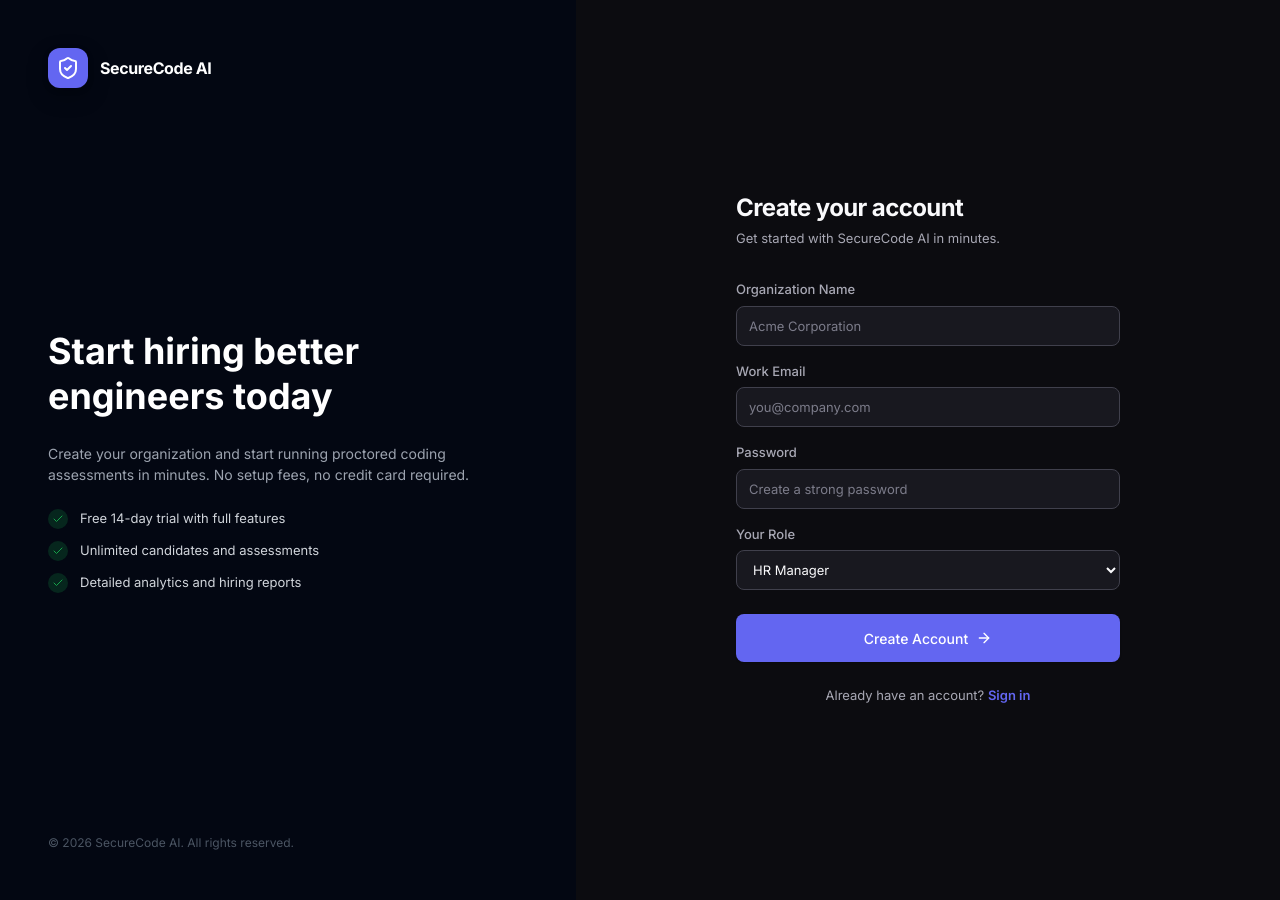
RegisterPage › shows error toast on failed registration
Step 1. Type "Test Org" into the field with placeholder "Acme Corporation" → (928, 326), box x1=736 y1=306 x2=1120 y2=346
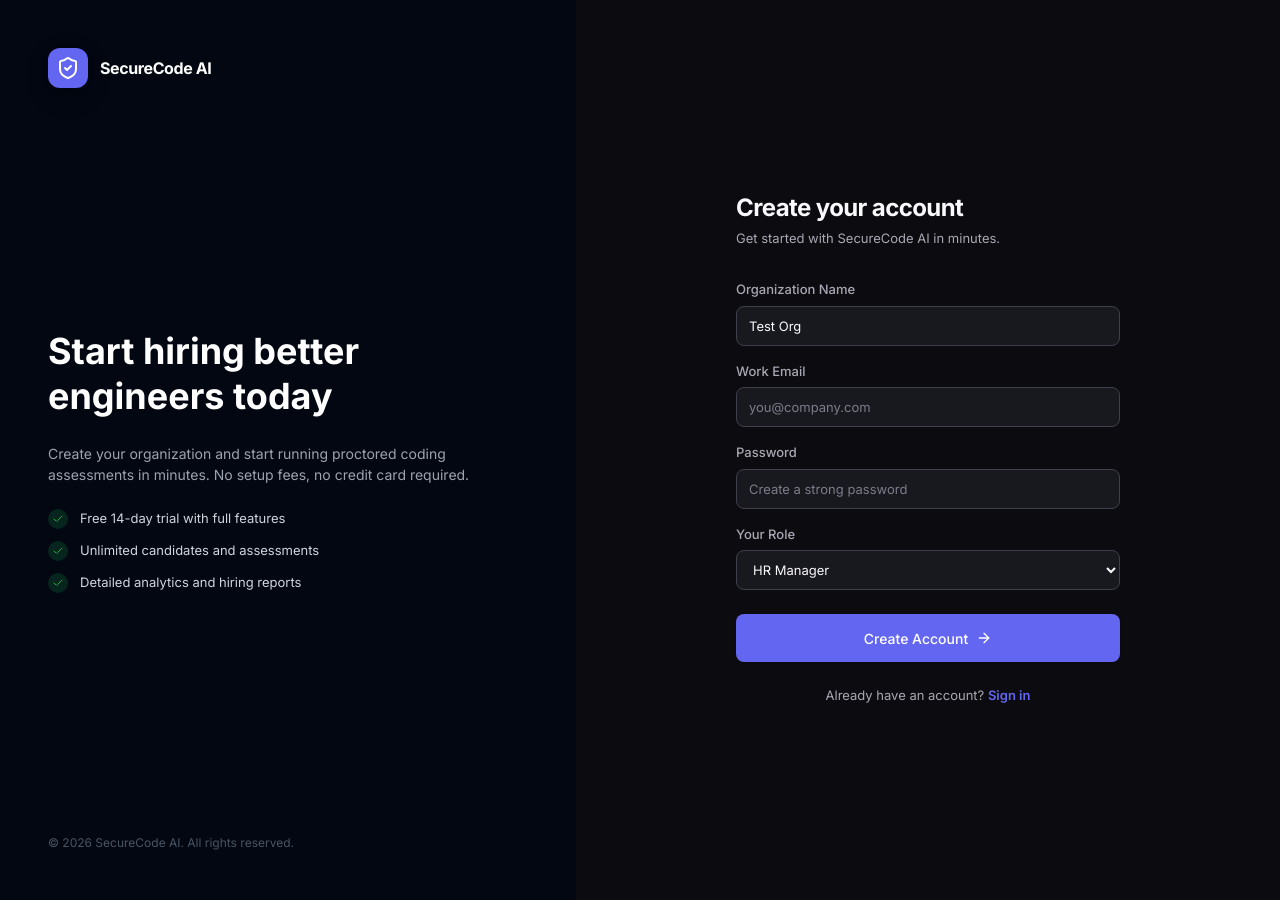
Step 2. Type "bad@test.com" into the field with placeholder "you@company.com" → (928, 407), box x1=736 y1=387 x2=1120 y2=427
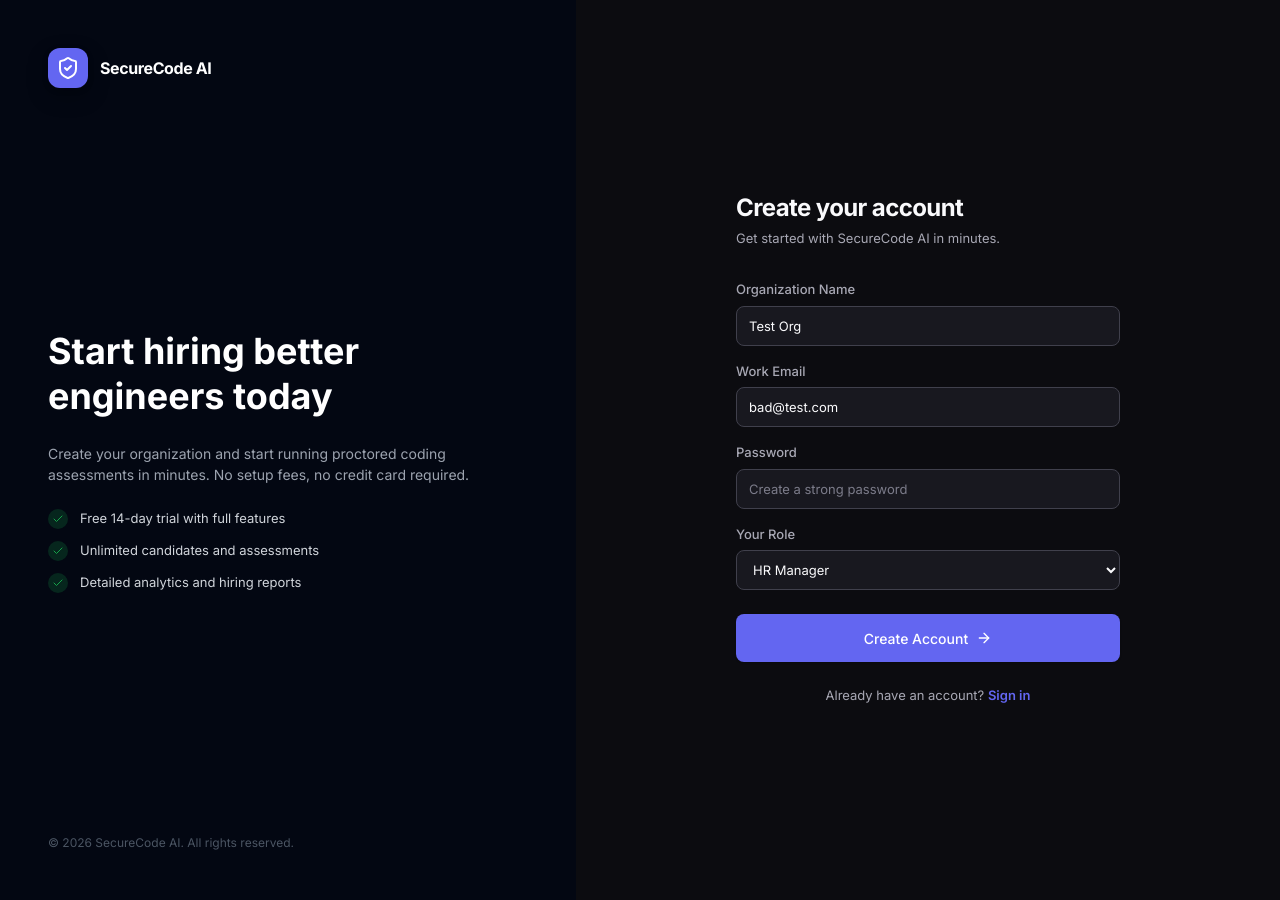
Step 3. Type "SecurePass123!" into the password field with placeholder "Create a strong password" → (928, 489), box x1=736 y1=469 x2=1120 y2=509
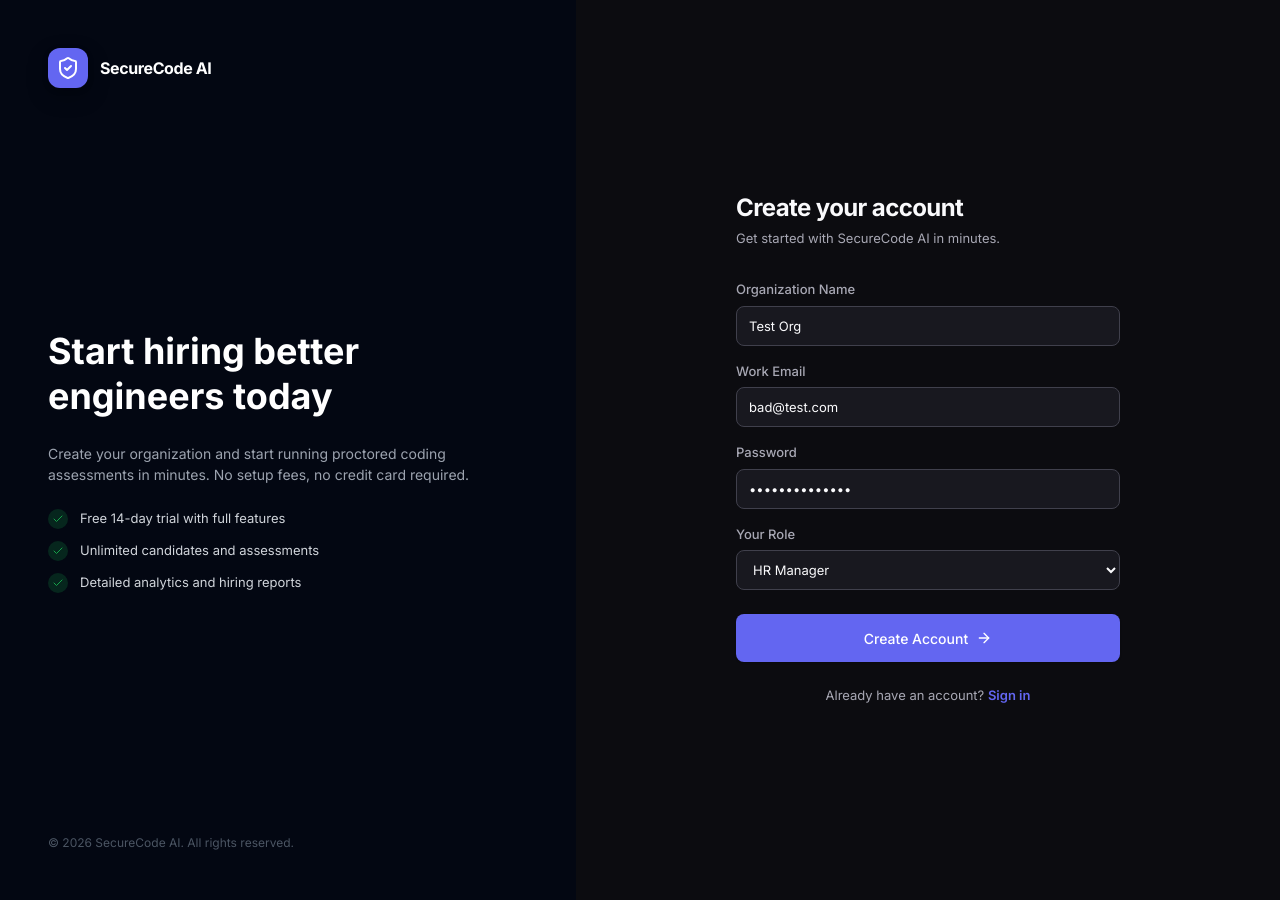
Step 4. Click the button "Create Account" → (928, 638), box x1=736 y1=614 x2=1120 y2=662
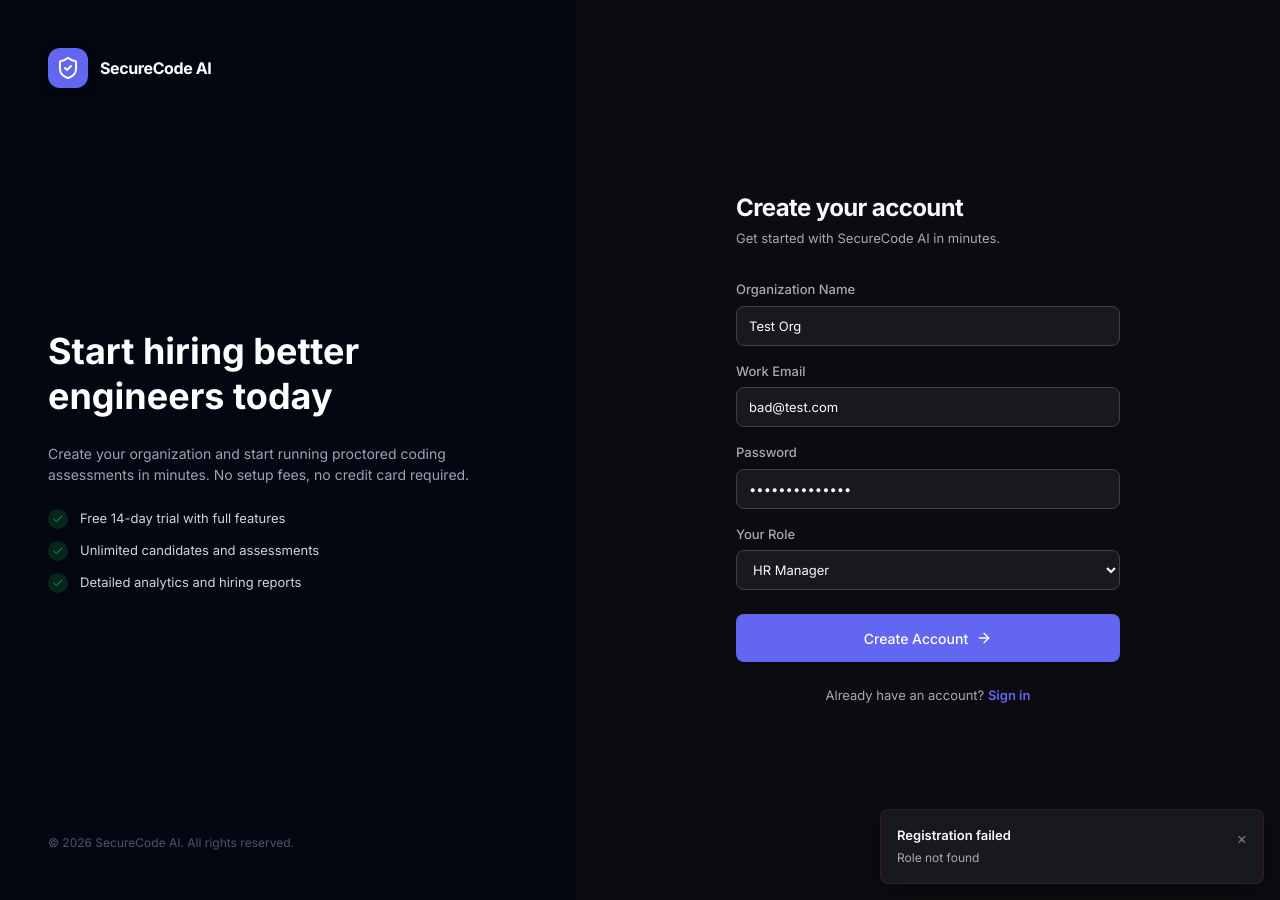
Expected: the text "Role not found" is shown, x1=897 y1=850 x2=979 y2=865
